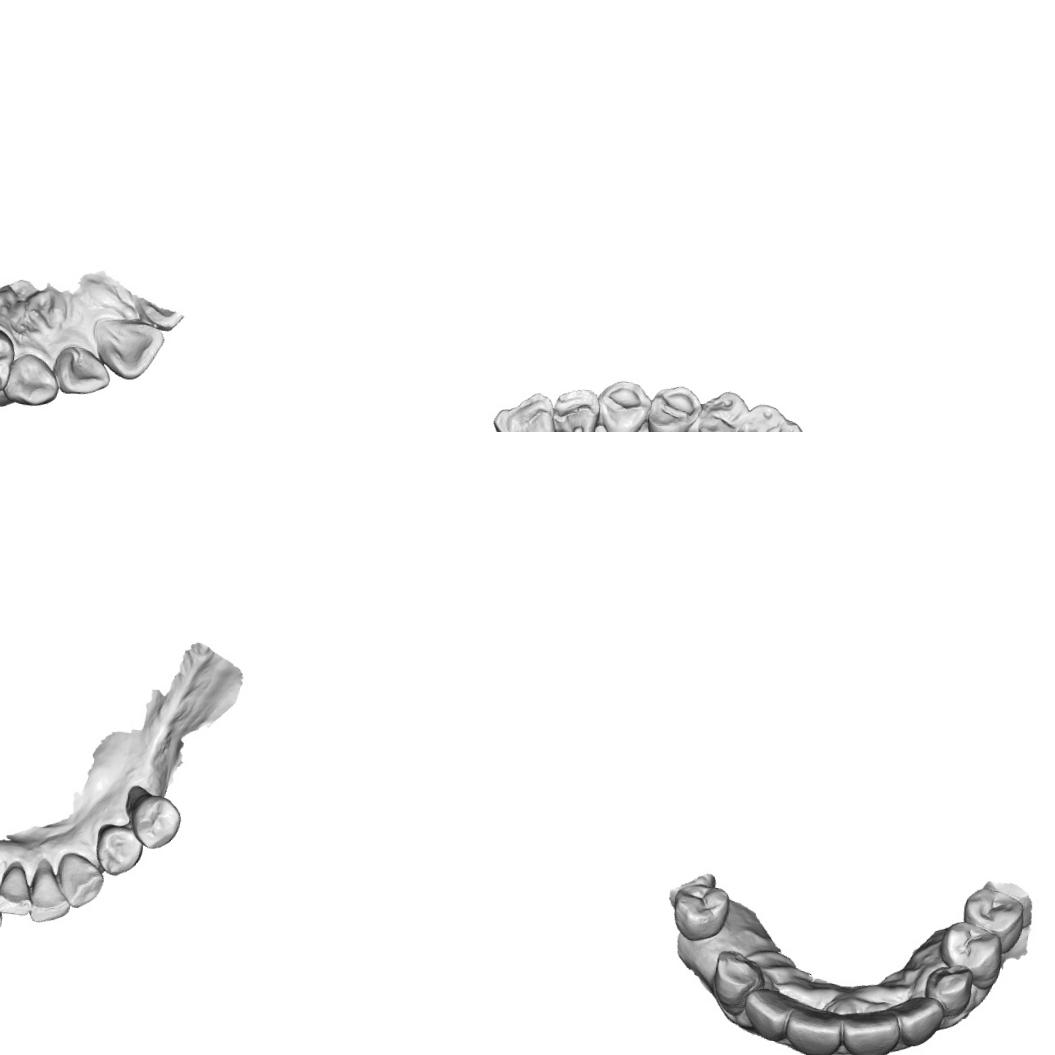canine: (1, 350, 64, 413), (706, 948, 764, 1014), (593, 376, 655, 432), (920, 962, 976, 1023), (53, 850, 108, 912)
incisor: (86, 311, 168, 386), (884, 991, 948, 1055), (779, 998, 847, 1055), (739, 982, 798, 1046), (51, 342, 114, 401), (26, 856, 76, 926), (488, 386, 564, 432), (838, 1003, 902, 1055), (547, 383, 603, 432), (0, 858, 37, 919)
molar: (730, 400, 809, 432)
premolar: (954, 883, 1030, 958), (933, 917, 1008, 987), (665, 878, 732, 947), (126, 790, 184, 852), (92, 822, 146, 881), (643, 381, 705, 432), (692, 385, 751, 432), (0, 322, 18, 401)
